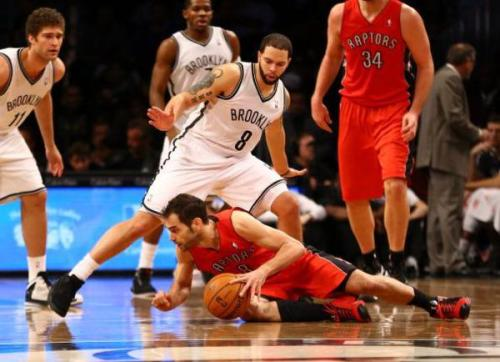10+: (1, 1, 493, 328)
down: (136, 181, 479, 326)
